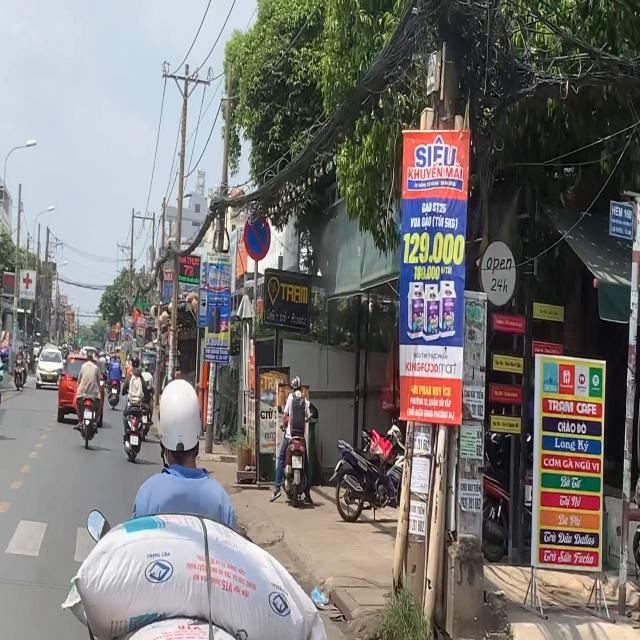bien_cam: (243, 216, 271, 260)
